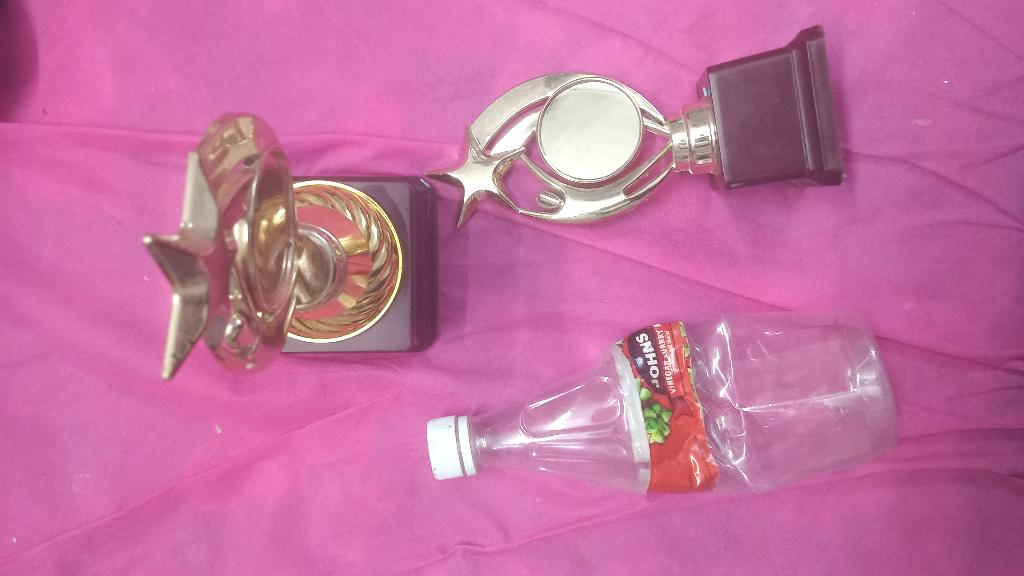garbage: (404, 317, 929, 510)
